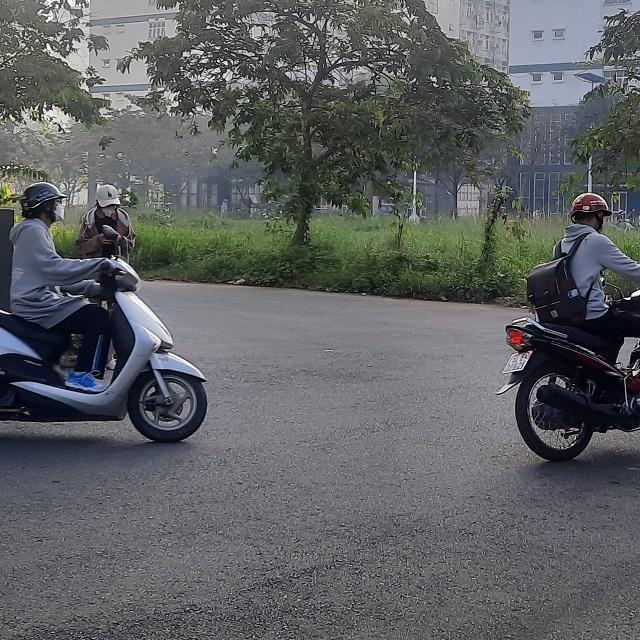Helmet: (18, 182, 66, 224), (570, 192, 610, 228)
